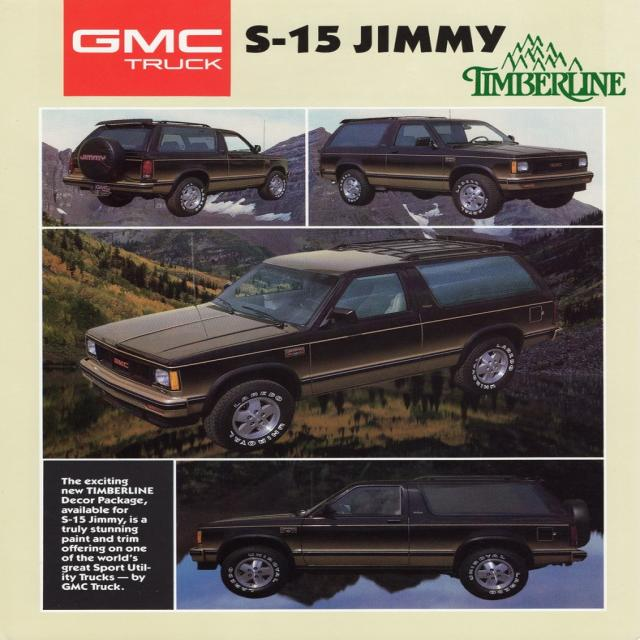car: (76, 237, 570, 445), (189, 467, 603, 592), (320, 113, 591, 215), (62, 117, 300, 214)
